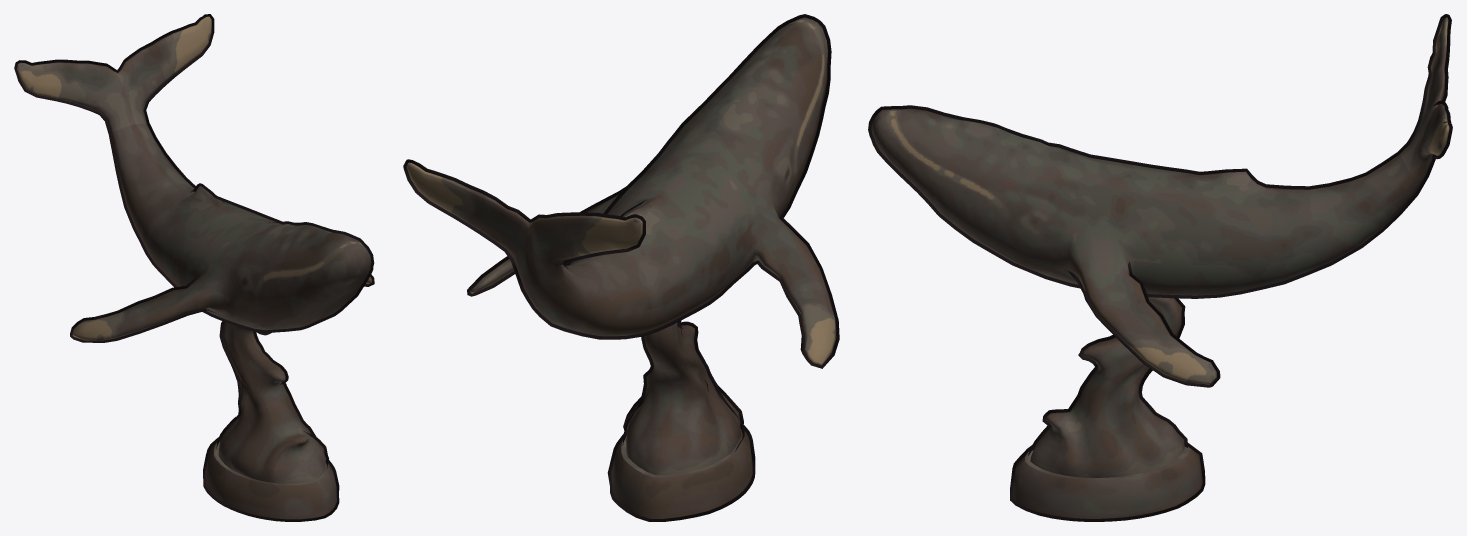
File: SM_Int_WhaleStatue.fbx
3 views of the same model, side by side, from view 1: azimuth 30°, elevation 25°; view 2: azimuth 150°, elevation 25°; view 3: azimuth 270°, elevation 25° (orthographic). The views are drawn at different scales.
Visible parts, largest first — view 1: SM_Int_WhaleStatue; view 2: SM_Int_WhaleStatue; view 3: SM_Int_WhaleStatue.
Boxes of the visible parts, left/top/right/bottom form: SM_Int_WhaleStatue: left=14, top=14, right=374, bottom=521; SM_Int_WhaleStatue: left=403, top=14, right=839, bottom=521; SM_Int_WhaleStatue: left=868, top=14, right=1452, bottom=521.
Bounding box in the file's own units: 0.9472 × 1.09 × 1.38.
